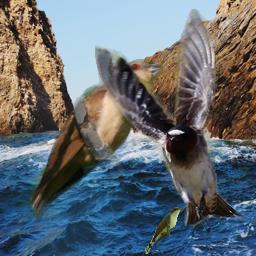Cuckoo: (24, 59, 163, 222), (145, 207, 183, 254)
Swallow: (95, 9, 243, 226)
